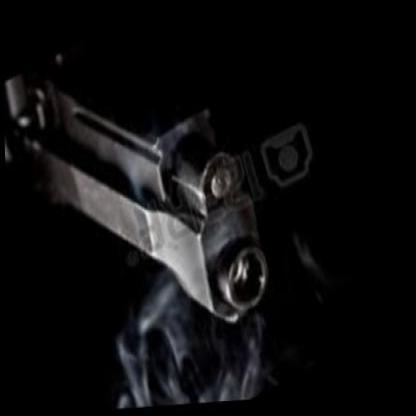pistol: (0, 0, 290, 413)
